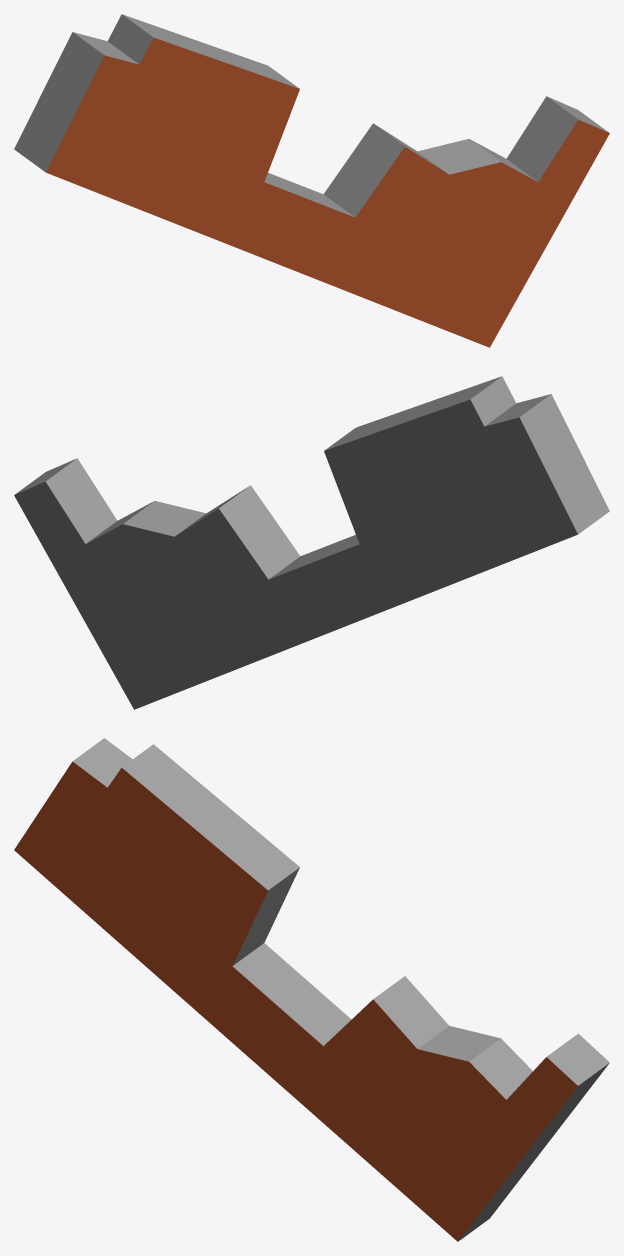
File: construction_6928_assumed_A_Casa_h6m.obj
The picture shows the model from 3 angles, top to bottom: view 1: azimuth 30°, elevation 25°; view 2: azimuth 150°, elevation 25°; view 3: azimuth 330°, elevation 25°; orthographic projection.
Visible parts, largest first — view 1: construction_6928_assumed_A_Casa; view 2: construction_6928_assumed_A_Casa; view 3: construction_6928_assumed_A_Casa.
Part boxes in pixels (x1,y1,x2,y2): construction_6928_assumed_A_Casa: (14, 14, 609, 347); construction_6928_assumed_A_Casa: (14, 376, 609, 709); construction_6928_assumed_A_Casa: (14, 738, 609, 1241).
Bounding box in the file's own units: 61.22 × 40.7 × 6.
